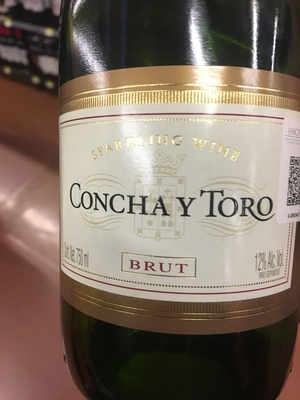brut: (52, 15, 298, 400)
